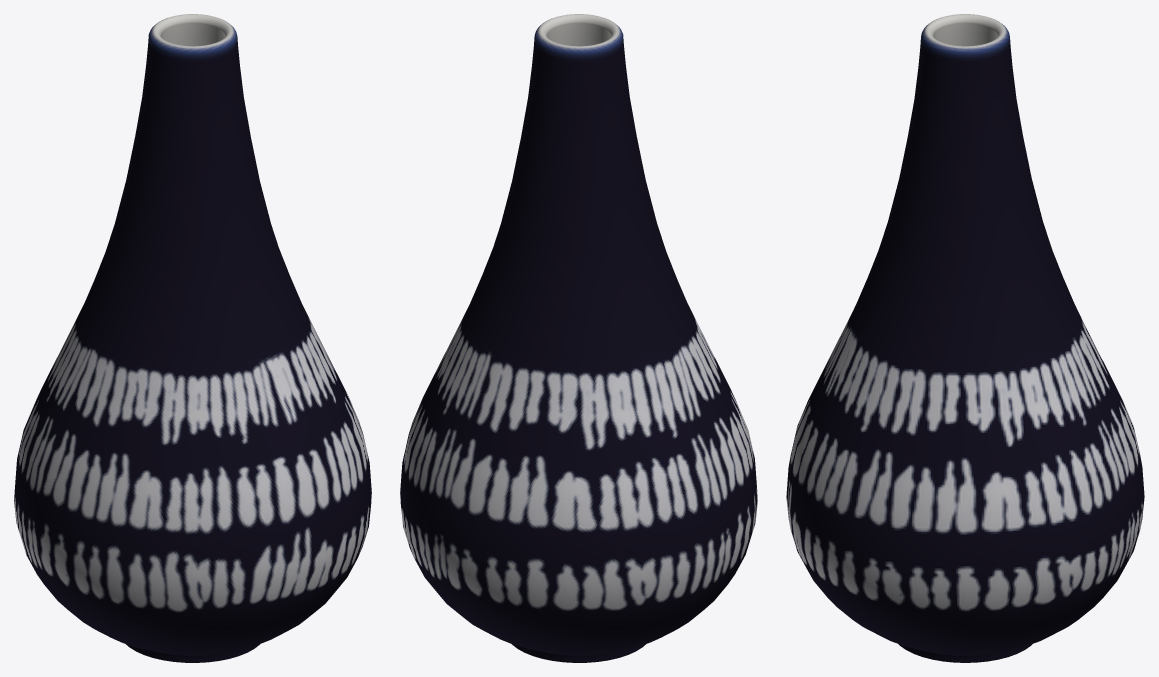
3 renders of one model, left to right at view 1: azimuth 30°, elevation 25°; view 2: azimuth 150°, elevation 25°; view 3: azimuth 270°, elevation 25°, orthographic.
Parts seen in each view (by area): view 1: RootNode; view 2: RootNode; view 3: RootNode.
Boxes of the visible parts, box(x1,y1,x2,y2) form: RootNode: box(14, 14, 371, 662); RootNode: box(400, 14, 757, 662); RootNode: box(786, 14, 1144, 662).
Size of the model in its own units: 0.1591 by 0.295 by 0.1591.
Materials: 1 (1 with a texture image).
